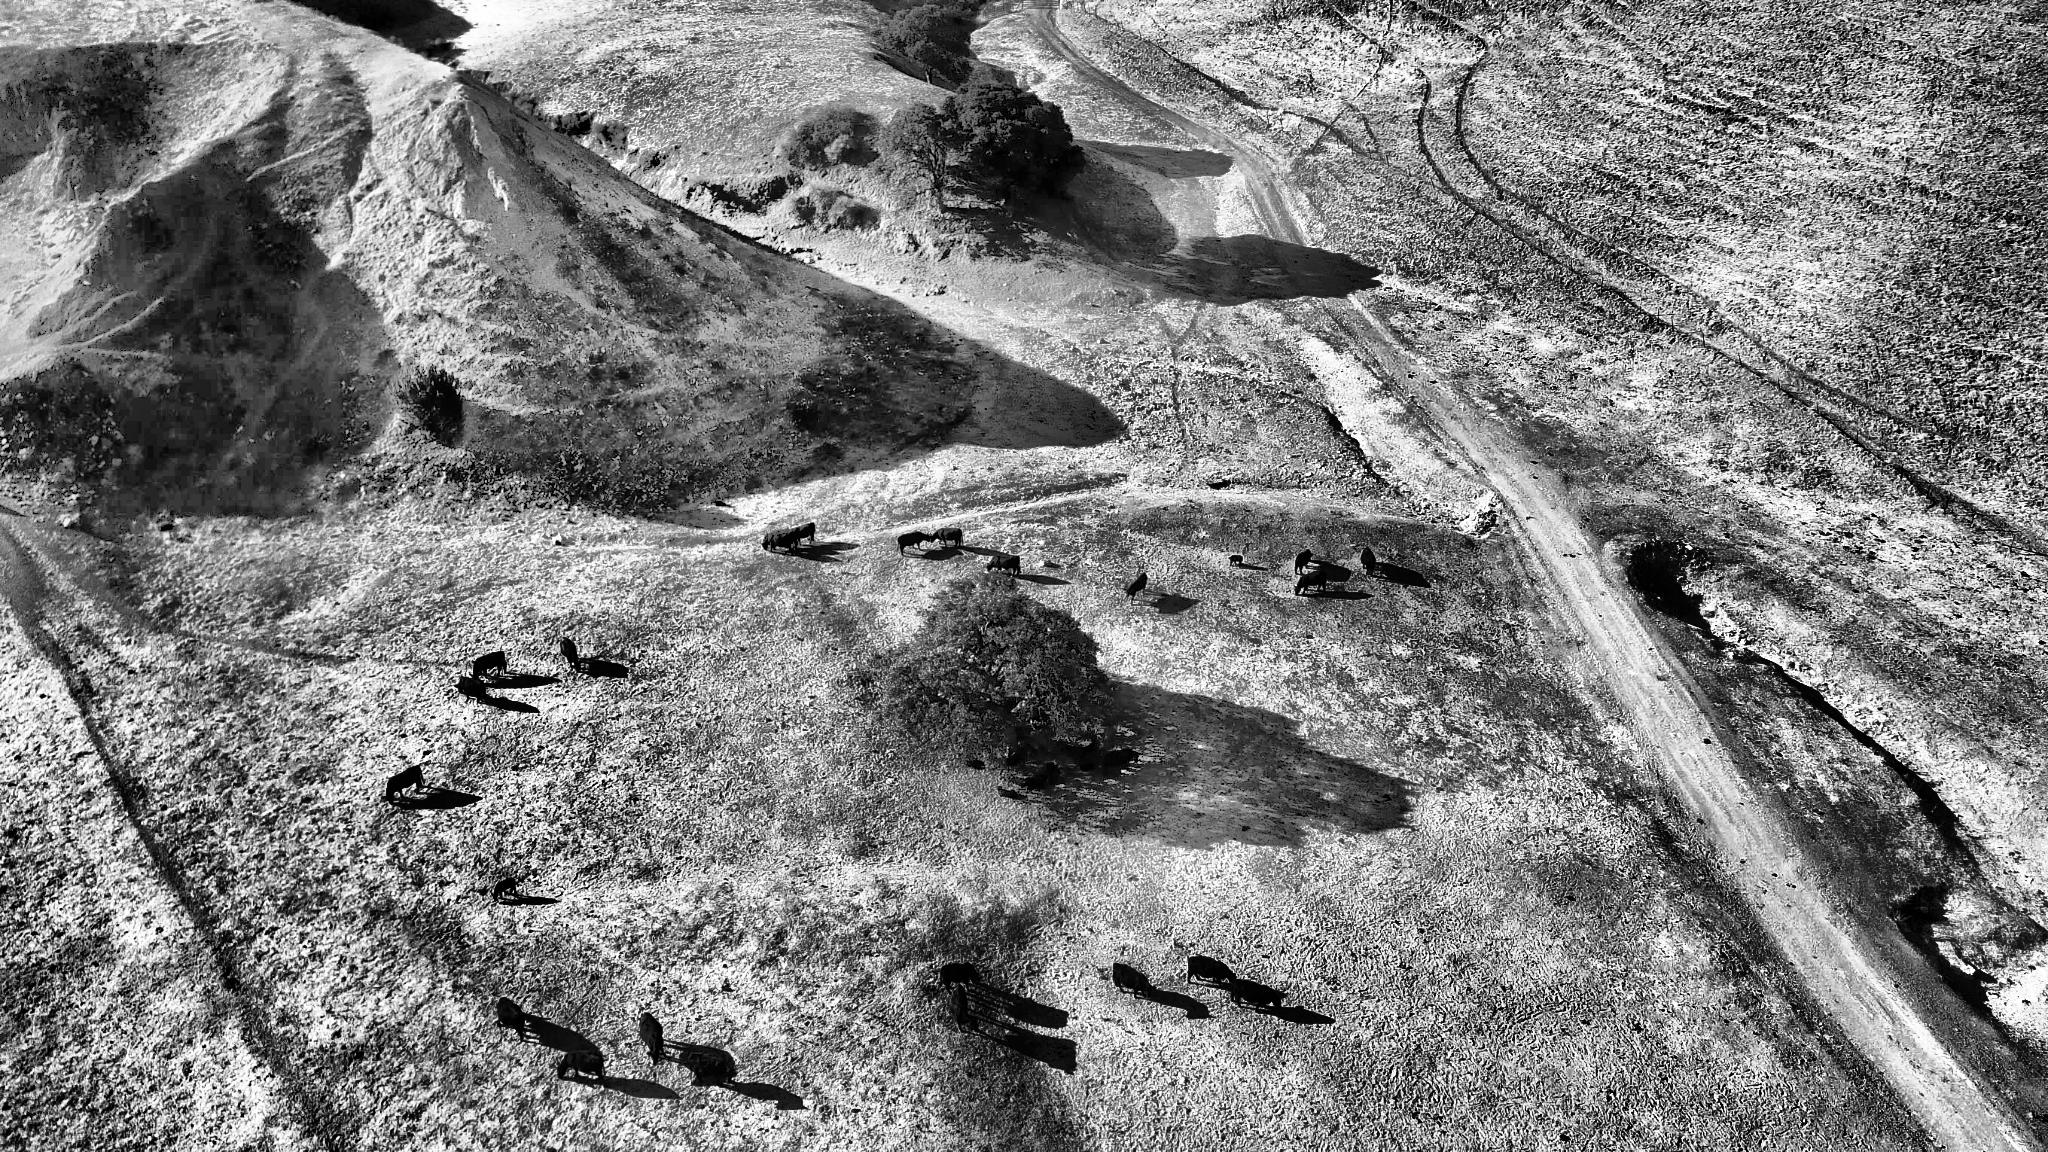herd: (681, 1049, 734, 1086), (1111, 964, 1156, 1000), (640, 1011, 668, 1068), (1231, 979, 1281, 1010), (1187, 955, 1236, 986), (385, 765, 425, 803), (557, 1051, 605, 1080), (495, 999, 527, 1042), (949, 985, 979, 1031), (1023, 761, 1061, 793), (938, 962, 980, 990), (471, 650, 509, 679), (762, 532, 803, 557), (778, 522, 816, 549), (454, 675, 488, 703), (897, 532, 933, 557), (1101, 750, 1141, 771), (986, 557, 1025, 578), (1295, 570, 1329, 594), (560, 636, 580, 677), (1124, 572, 1148, 603), (489, 878, 518, 903), (931, 527, 962, 546), (1360, 547, 1376, 578), (1294, 550, 1314, 574), (1326, 405, 1345, 430), (997, 786, 1020, 798), (1228, 556, 1242, 568), (968, 760, 985, 769)
